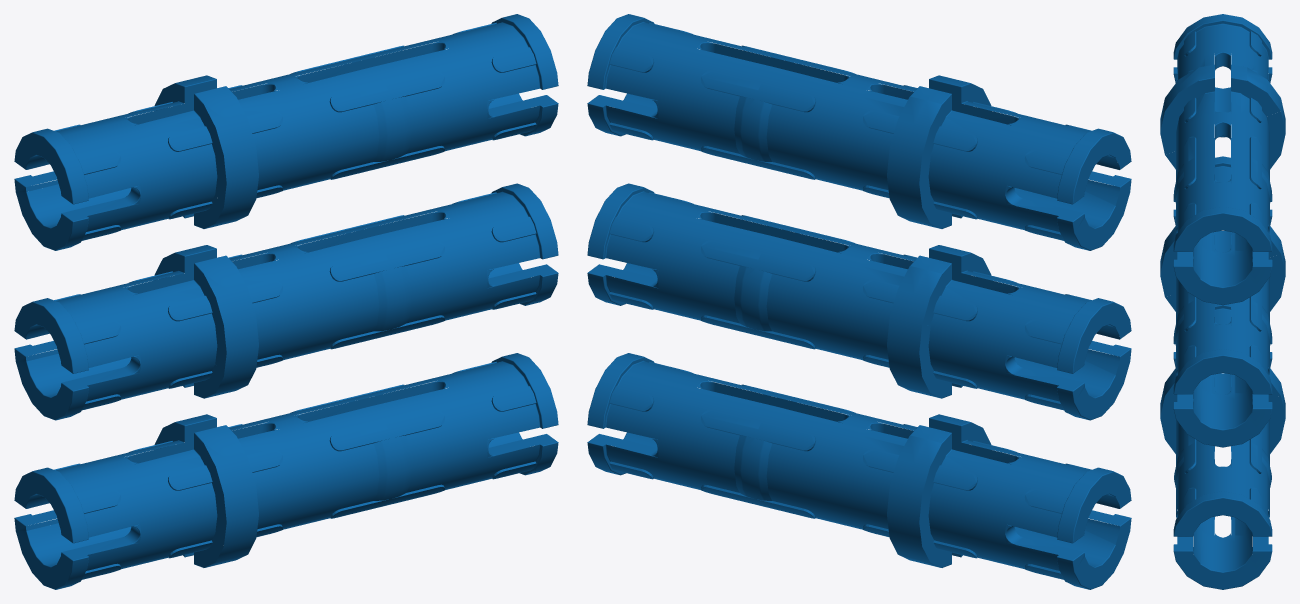
Rendered from rightrods.glb.
The picture shows the model from 3 angles, left to right: view 1: azimuth 30°, elevation 25°; view 2: azimuth 150°, elevation 25°; view 3: azimuth 270°, elevation 25°; orthographic projection. The views are drawn at different scales.
Parts seen in each view (by area): view 1: 00003_6558.dat, 00002_6558.dat, 00001_6558.dat; view 2: 00002_6558.dat, 00003_6558.dat, 00001_6558.dat; view 3: 00003_6558.dat, 00001_6558.dat, 00002_6558.dat.
Part boxes in pixels (x1=…): 00003_6558.dat: x1=14, y1=14, x2=558, y2=250; 00002_6558.dat: x1=14, y1=353, x2=558, y2=589; 00001_6558.dat: x1=14, y1=183, x2=558, y2=420; 00002_6558.dat: x1=587, y1=353, x2=1131, y2=589; 00003_6558.dat: x1=587, y1=14, x2=1131, y2=250; 00001_6558.dat: x1=587, y1=183, x2=1131, y2=420; 00003_6558.dat: x1=1160, y1=14, x2=1285, y2=305; 00001_6558.dat: x1=1160, y1=156, x2=1285, y2=447; 00002_6558.dat: x1=1160, y1=304, x2=1285, y2=589.
Size of the model in its own units: 2.4 by 2.22 by 0.64.
